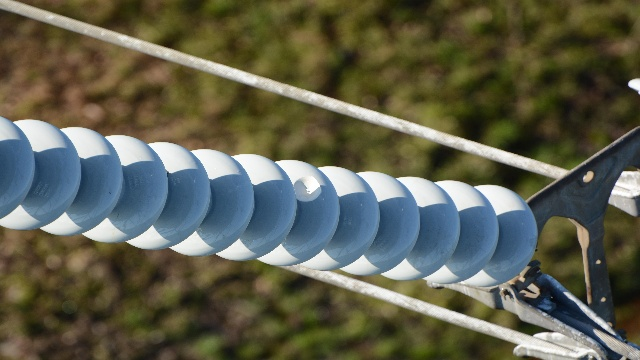broken_local: (290, 174, 322, 203)
insulator_unspecified: (0, 115, 537, 286)
